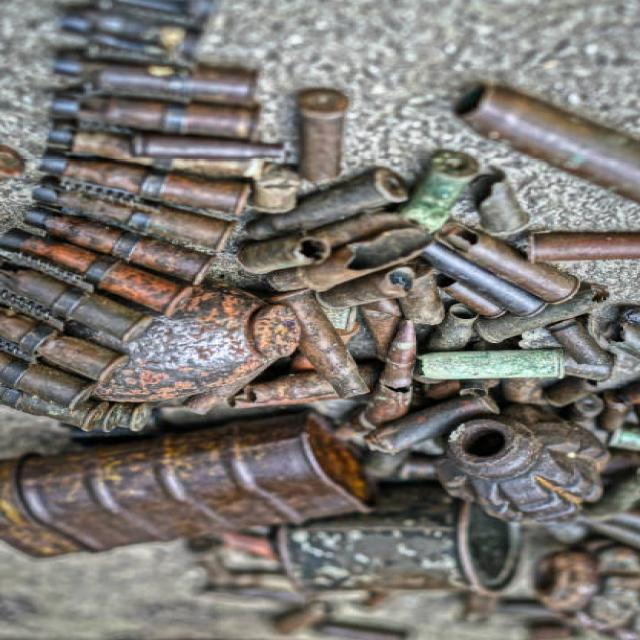grenade: (434, 407, 621, 535)
